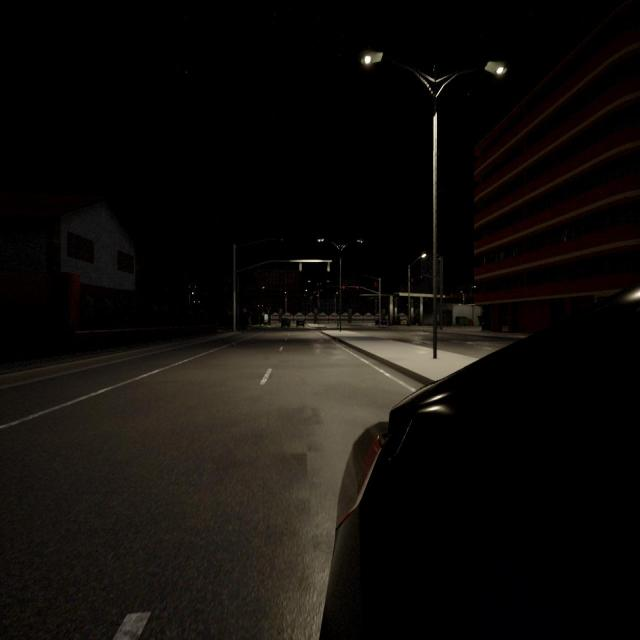Vehicle: (324, 294, 640, 637), (397, 314, 407, 324), (281, 318, 290, 327), (297, 318, 304, 328), (376, 319, 386, 325)
traffic_light: (327, 262, 330, 271), (299, 262, 302, 270), (356, 286, 359, 289), (411, 278, 413, 282), (420, 276, 422, 279), (342, 286, 344, 289)
